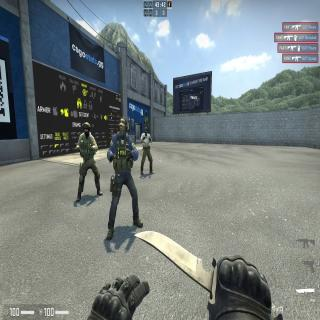CT-Body: (78, 122, 99, 200), (114, 118, 132, 200)
CT-Head: (120, 118, 126, 137), (83, 122, 91, 136)
T-Body: (141, 128, 152, 176)
T-Head: (144, 128, 148, 136)
